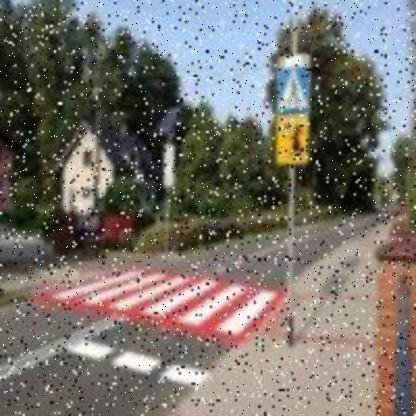Pedestrian Crossing: (274, 66, 315, 116)
